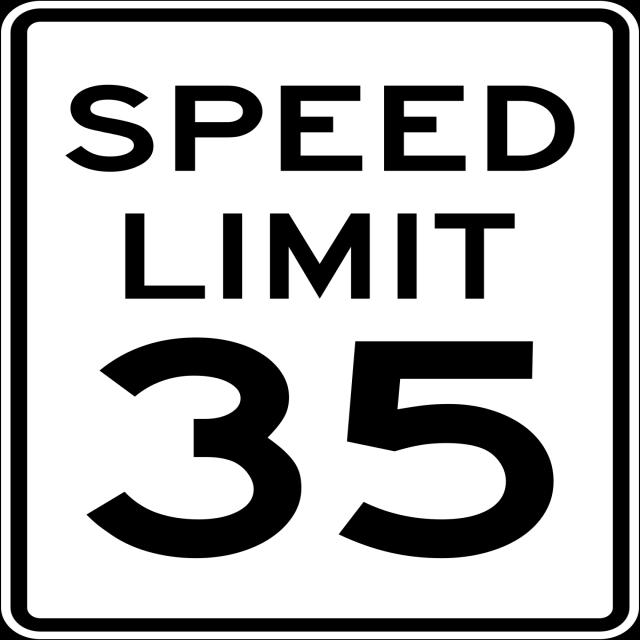speedLimit35: (9, 9, 630, 623)
